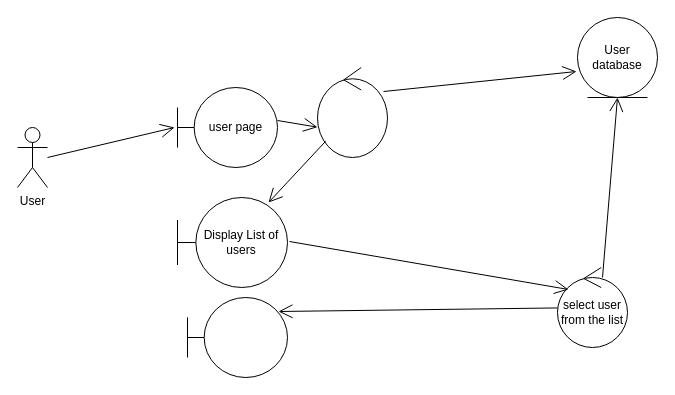
Image size: 675x395. Some labels were removed from this diagram. Each missing label, with the centre of its shape:
"Display the selected user profile" goes at (237,337).
"Search another user with search keyword" goes at (352,112).
